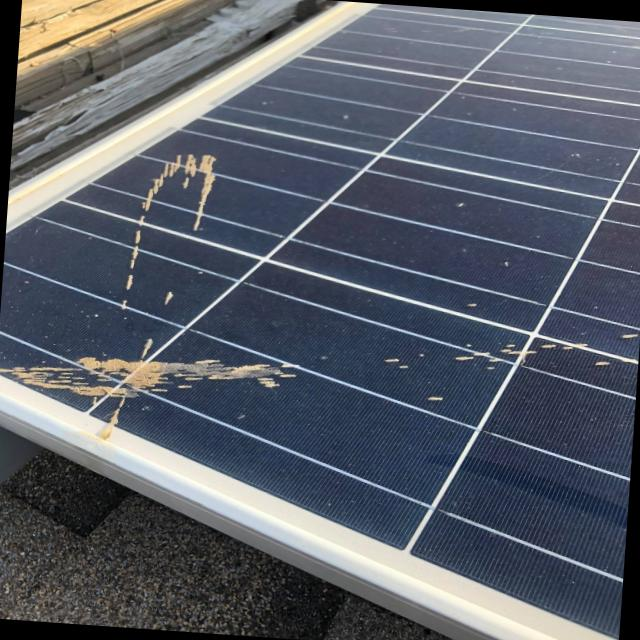faulty: (0, 8, 640, 633), (106, 145, 276, 323), (32, 321, 276, 431)
